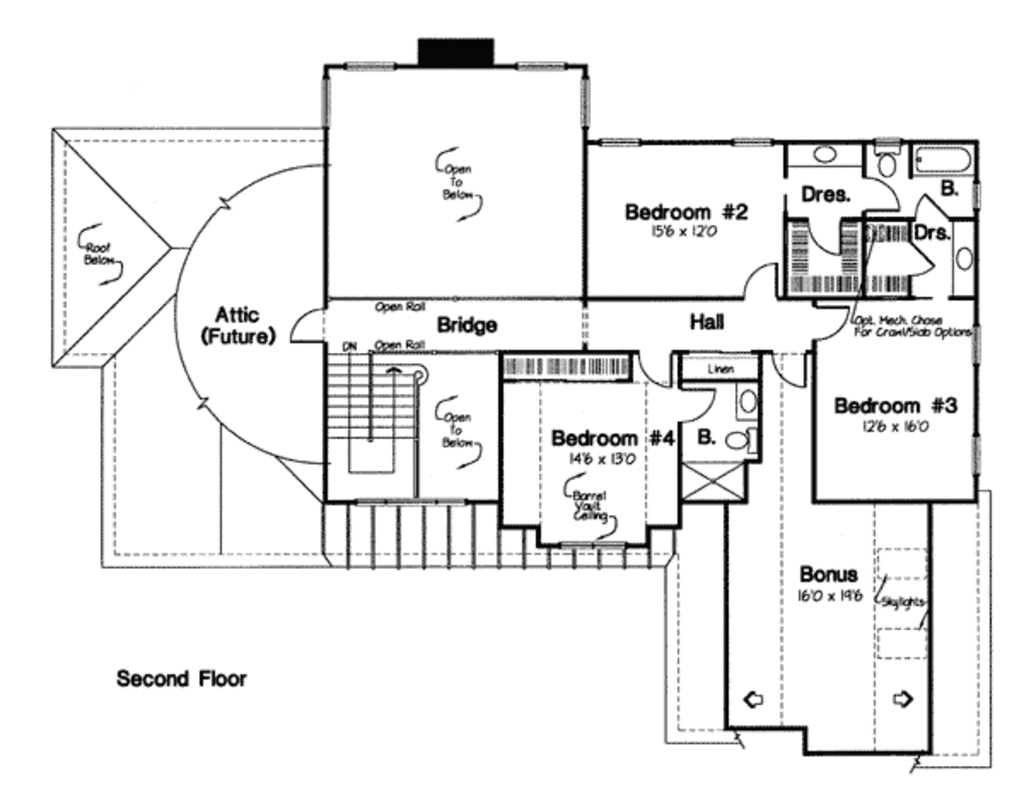door: (804, 211, 850, 255), (740, 255, 783, 301), (809, 299, 855, 341), (270, 310, 323, 344), (769, 349, 807, 393), (675, 385, 712, 428), (864, 172, 898, 215), (635, 348, 671, 388), (904, 239, 937, 282), (911, 191, 953, 222)
large_sink: (871, 141, 905, 177), (726, 426, 760, 459)
small_sink: (784, 141, 862, 168), (951, 222, 975, 295)
stairs: (322, 349, 447, 503)
window: (963, 318, 995, 365), (511, 56, 568, 73), (968, 429, 987, 477), (340, 57, 396, 73), (578, 75, 593, 125), (734, 134, 779, 150), (594, 137, 640, 148)
